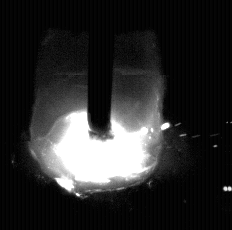arame: (88, 0, 112, 141)
poca: (31, 0, 165, 230)
